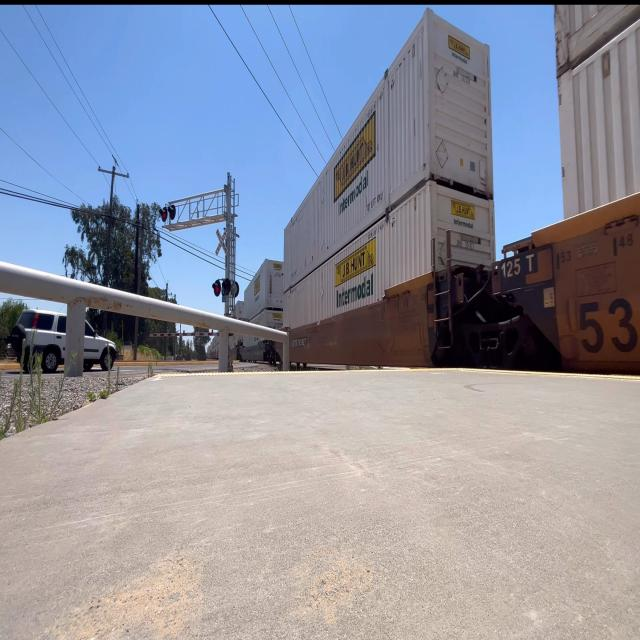container: (281, 2, 496, 292), (282, 178, 498, 335)
flatcar: (446, 153, 639, 393), (278, 266, 478, 372)
